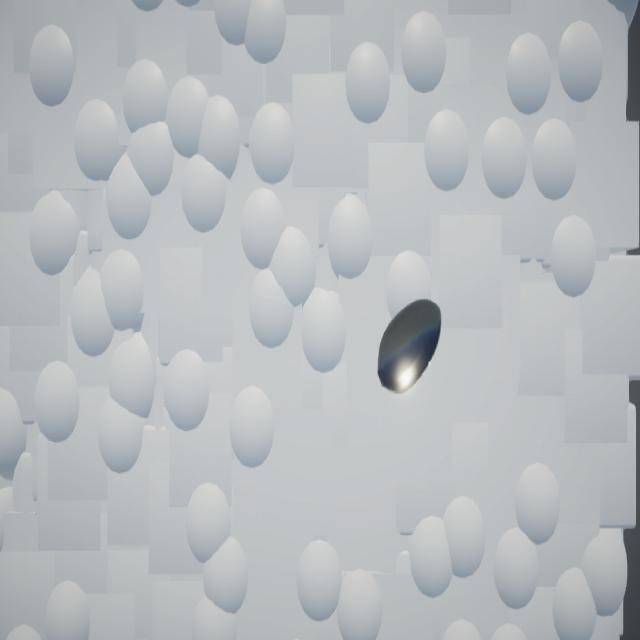top_spoon: (378, 299, 443, 395)
